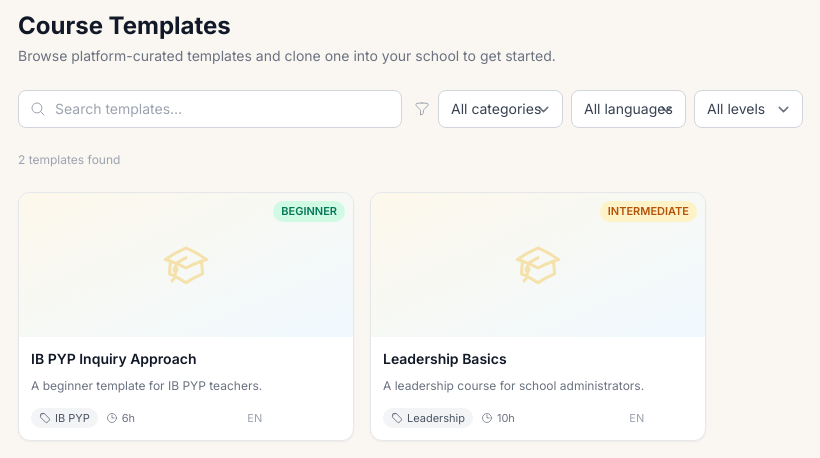
CourseTemplateGalleryPage › filters templates client-side by search input
Type "Leadership" into the field with test id "search-input" at [210, 109], box [18,90,402,128]
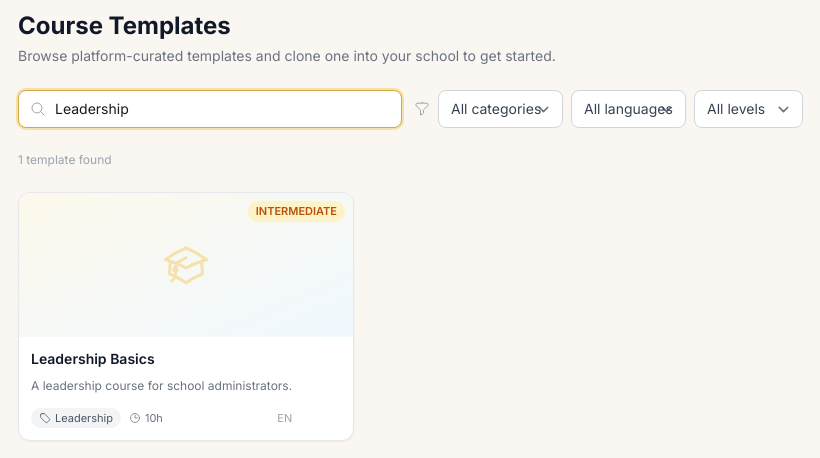
Expected: the heading "Leadership Basics" is shown, [31,350,155,367]
Expected: the number of buttons with test id "template-card" is 1, [18,192,354,441]
Expected: the button "IB PYP Inquiry Approach" is gone
